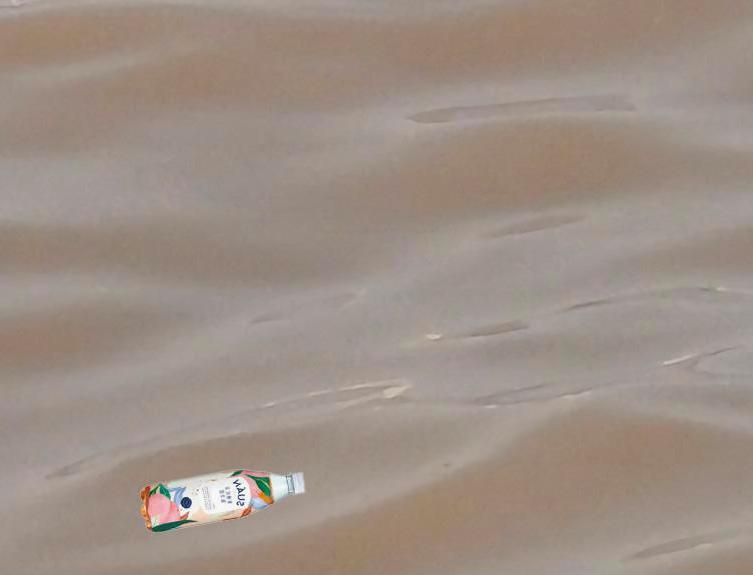Plastic: (142, 465, 309, 539)
